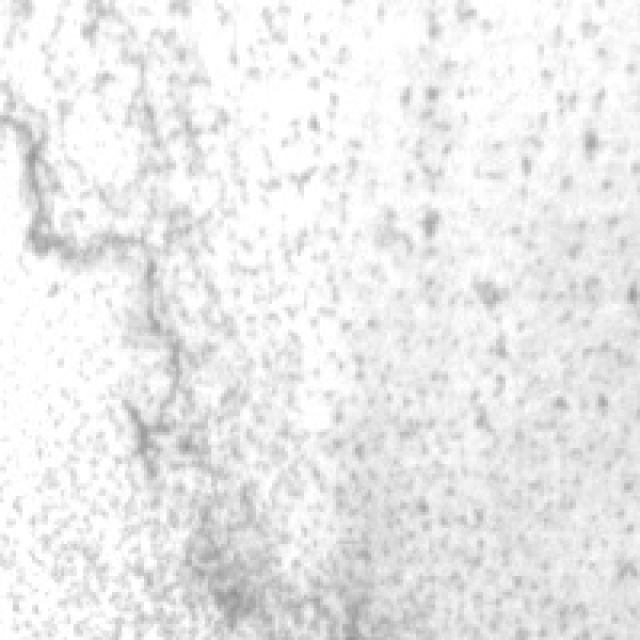pitted_surface: (45, 0, 627, 624)
